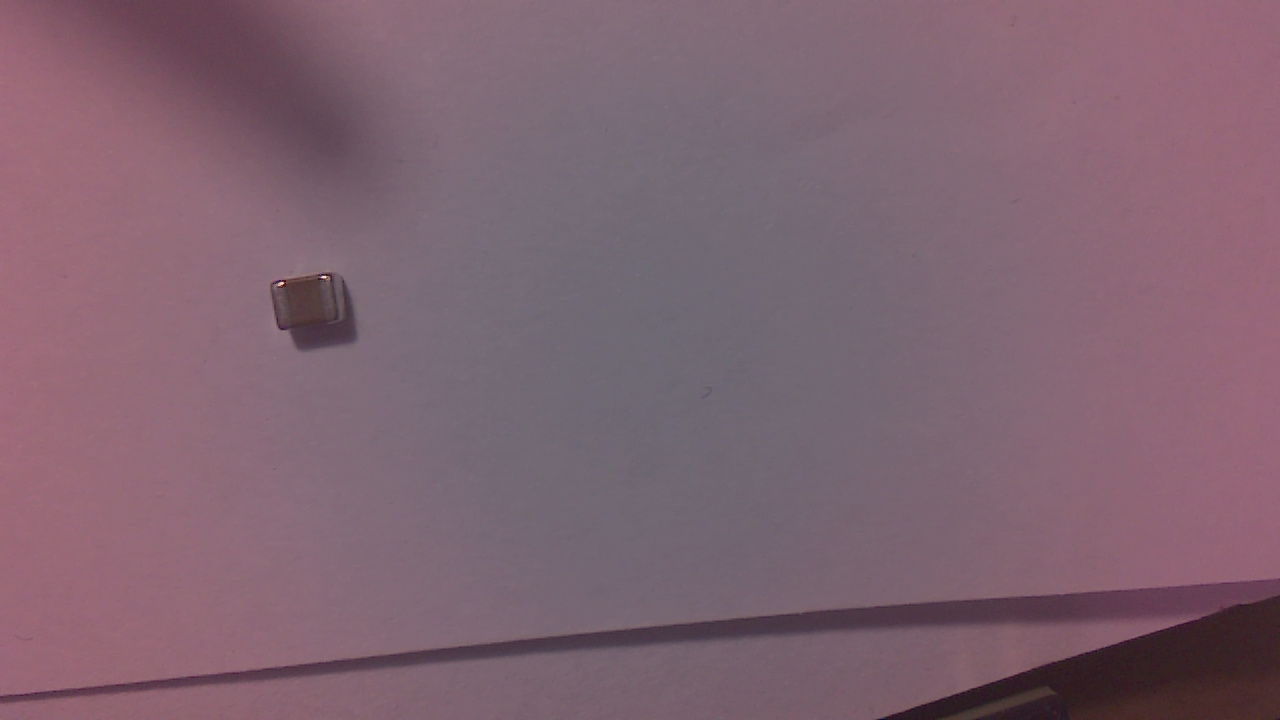Condensator: (275, 272, 355, 339)
